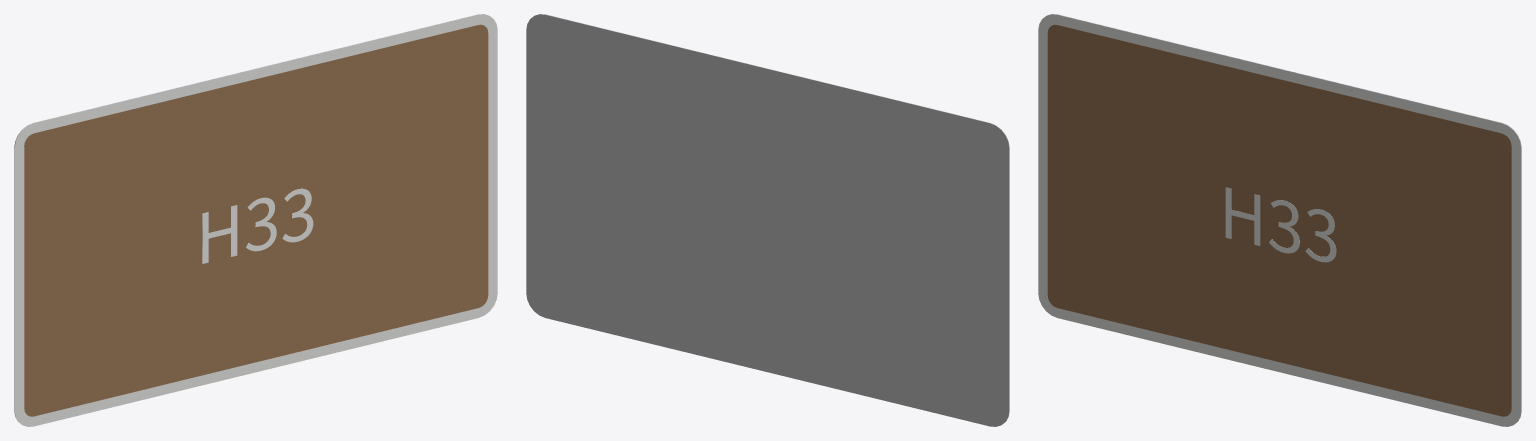
3 views of the same model, side by side, from view 1: azimuth 30°, elevation 25°; view 2: azimuth 150°, elevation 25°; view 3: azimuth 330°, elevation 25° (orthographic).
Parts seen in each view (by area): view 1: H33_fond01, H33_cadre00, H33_txt02, H33_dos; view 2: H33_dos; view 3: H33_fond01, H33_cadre00, H33_txt02, H33_dos.
Boxes of the visible parts, x1,y1,x2,y2 form: H33_fond01: (24,24,488,416); H33_cadre00: (14,14,497,426); H33_txt02: (202,188,313,263); H33_dos: (14,14,487,420); H33_dos: (526,14,1009,426); H33_fond01: (1047,24,1511,416); H33_cadre00: (1038,14,1521,426); H33_txt02: (1225,187,1336,262); H33_dos: (1048,14,1521,420).
Bounding box in the file's own units: 1 × 0.6 × 0.0025.
